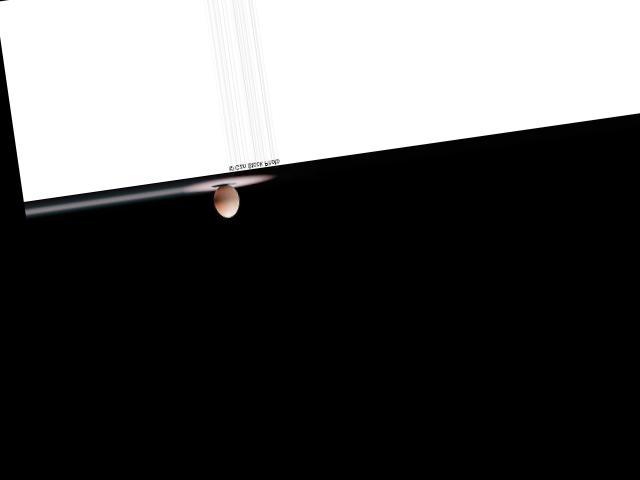egg: (211, 182, 241, 218)
